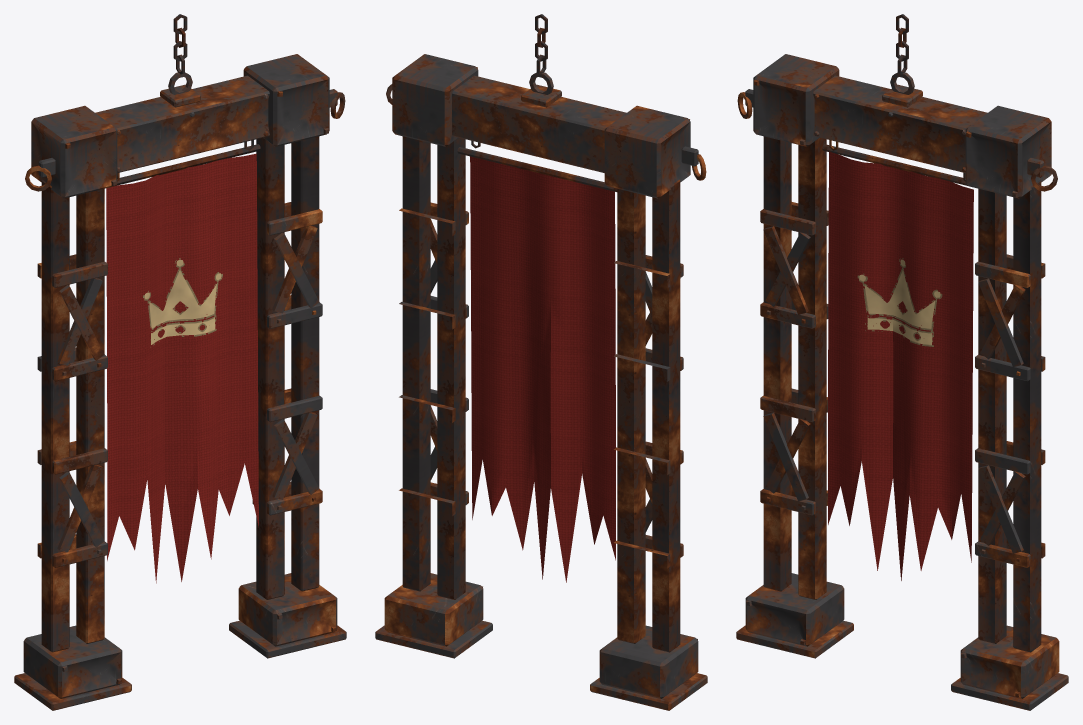
Rendered from Banner_Frame.glb.
3 renders of one model, left to right at view 1: azimuth 30°, elevation 25°; view 2: azimuth 150°, elevation 25°; view 3: azimuth 330°, elevation 25°, orthographic.
Parts seen in each view (by area): view 1: Banner_Frame; view 2: Banner_Frame; view 3: Banner_Frame.
Boxes of the visible parts, x1,y1,x2,y2 form: Banner_Frame: (14,14,346,710); Banner_Frame: (375,14,707,710); Banner_Frame: (736,14,1068,710).
Bounding box in the file's own units: 2.39 × 4.61 × 0.508.
Materials: 5 (5 with a texture image).
